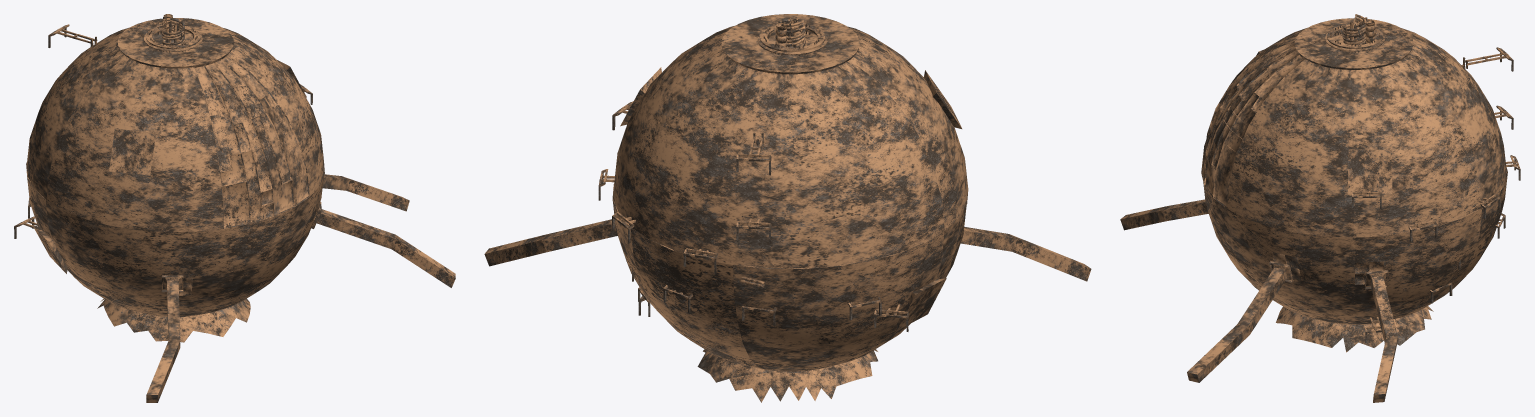
Rendered from EnergyPlant.fbx.
3 renders of one model, left to right at view 1: azimuth 30°, elevation 25°; view 2: azimuth 150°, elevation 25°; view 3: azimuth 270°, elevation 25°, orthographic. The views are drawn at different scales.
Visible parts, largest first — view 1: Sphere.005, Sphere.003, Icosphere.001, pip.160, pip.162, Cube.197, pip.161, Circle.034, Vert.098, Cube.199, Vert.096; view 2: Sphere.005, Sphere.003, Sphere.004, Icosphere.001, pip.161, pip.162, Vert.096, Vert.099, Cube.199, Circle.034, Cube.197; view 3: Sphere.005, Sphere.003, Icosphere.001, pip.160, pip.161, Cube.196, Vert.096, pip.162, Sphere.004, Sphere.003_RPanel, Circle.034, Vert.098 (+1 smaller).
Boxes of the visible parts, left/top/right/bottom form: Sphere.005: left=27, top=18, right=324, bottom=231; Sphere.003: left=27, top=177, right=323, bottom=317; Icosphere.001: left=97, top=298, right=250, bottom=342; pip.160: left=311, top=202, right=455, bottom=287; pip.162: left=146, top=275, right=183, bottom=402; Cube.197: left=109, top=128, right=155, bottom=175; pip.161: left=322, top=174, right=409, bottom=211; Circle.034: left=144, top=26, right=202, bottom=52; Vert.098: left=162, top=16, right=184, bottom=45; Cube.199: left=32, top=225, right=67, bottom=273; Vert.096: left=48, top=24, right=312, bottom=104; Sphere.005: left=613, top=14, right=968, bottom=268; Sphere.003: left=612, top=200, right=966, bottom=371; Sphere.004: left=630, top=228, right=766, bottom=369; Icosphere.001: left=697, top=349, right=877, bottom=402; pip.161: left=484, top=219, right=617, bottom=266; pip.162: left=960, top=227, right=1091, bottom=281; Vert.096: left=598, top=101, right=771, bottom=273; Vert.099: left=632, top=271, right=909, bottom=331; Cube.199: left=896, top=278, right=946, bottom=330; Circle.034: left=757, top=24, right=827, bottom=56; Cube.197: left=923, top=70, right=961, bottom=128; Sphere.005: left=1201, top=18, right=1506, bottom=237; Sphere.003: left=1203, top=183, right=1481, bottom=324; Icosphere.001: left=1276, top=306, right=1433, bottom=352; pip.160: left=1187, top=261, right=1293, bottom=382; pip.161: left=1365, top=270, right=1397, bottom=402; Cube.196: left=1348, top=149, right=1392, bottom=193; Vert.096: left=1352, top=47, right=1520, bottom=241; pip.162: left=1120, top=199, right=1208, bottom=230; Sphere.004: left=1446, top=174, right=1507, bottom=294; Sphere.003_RPanel: left=1202, top=174, right=1384, bottom=284; Circle.034: left=1325, top=24, right=1384, bottom=52; Vert.098: left=1342, top=14, right=1367, bottom=44.
Bounding box in the file's own units: 762 × 554 × 672.
